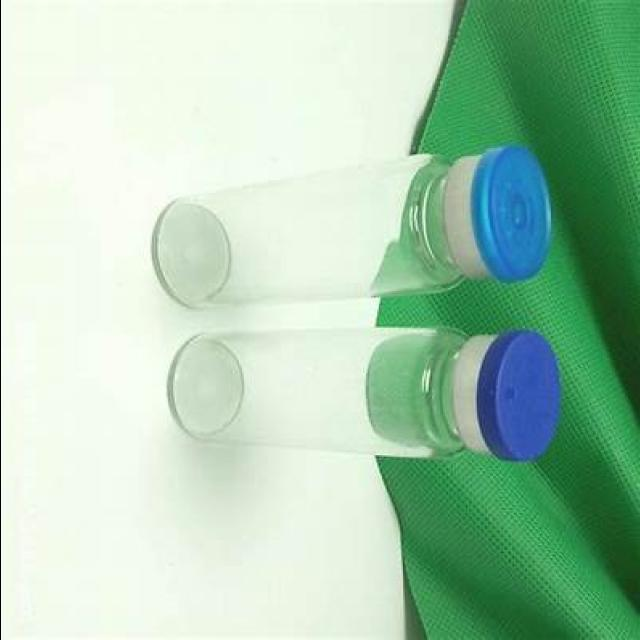vial: (460, 148, 550, 288), (478, 336, 552, 479)
